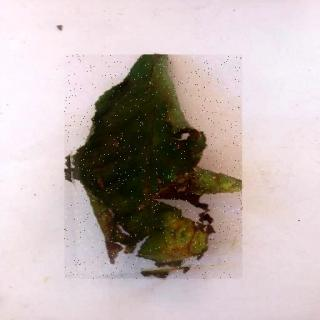Brown Blight: (66, 56, 245, 281)
